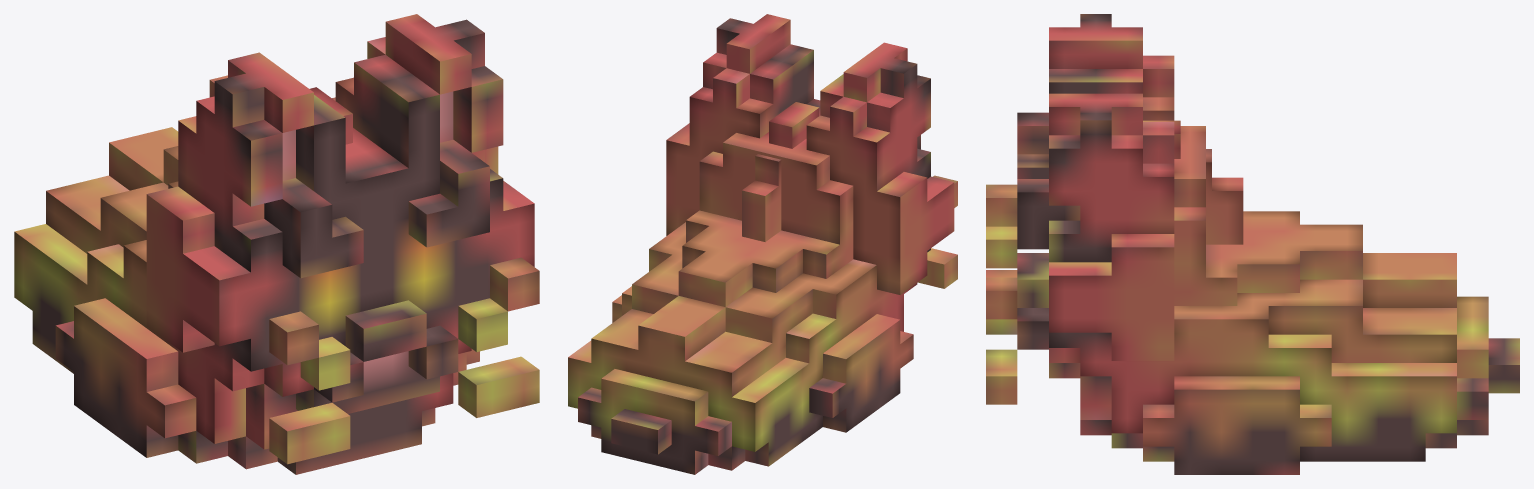
The model's file is skin_17.fbx.
The picture shows the model from 3 angles, left to right: view 1: azimuth 30°, elevation 25°; view 2: azimuth 150°, elevation 25°; view 3: azimuth 270°, elevation 25°; orthographic projection. The views are drawn at different scales.
Parts seen in each view (by area): view 1: skin_17-5.001, skin_17-0.001; view 2: skin_17-5.001, skin_17-0.001; view 3: skin_17-5.001, skin_17-0.001.
Boxes of the visible parts, left/top/right/bottom form: skin_17-5.001: left=14, top=14, right=539, bottom=474; skin_17-0.001: left=310, top=87, right=352, bottom=144; skin_17-5.001: left=568, top=14, right=957, bottom=474; skin_17-0.001: left=742, top=102, right=819, bottom=241; skin_17-5.001: left=986, top=14, right=1519, bottom=474; skin_17-0.001: left=1143, top=120, right=1243, bottom=244.
Size of the model in its own units: 100 by 121 by 170.
